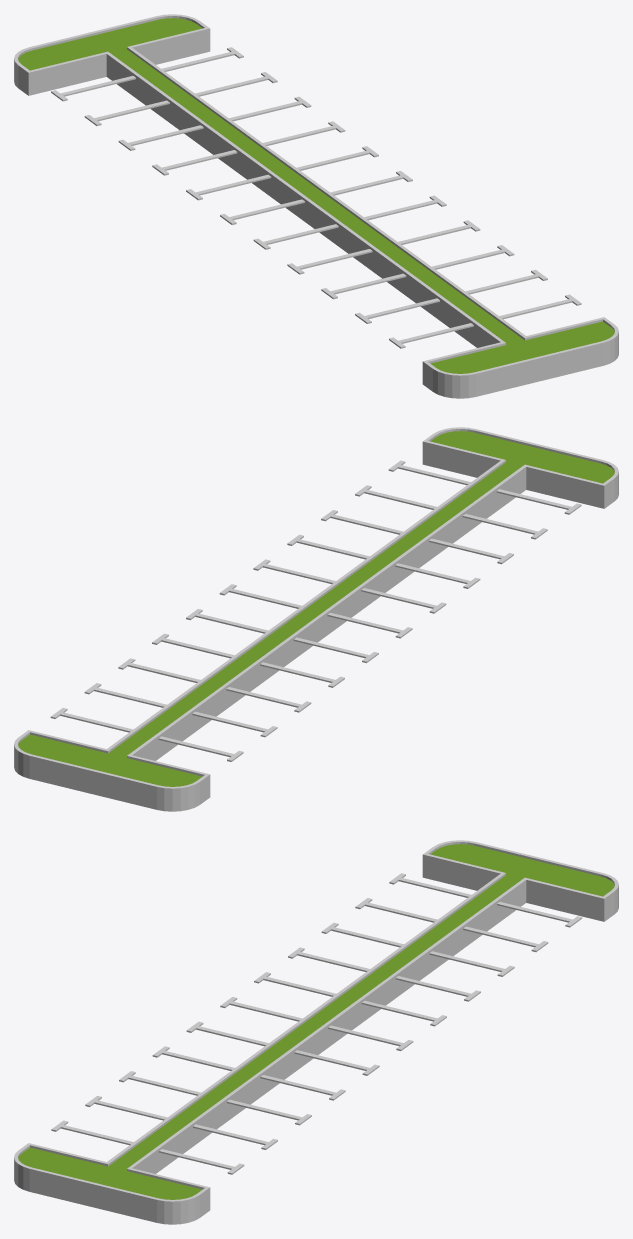
The model's file is 26 Car_parking.fbx.
3 renders of one model, top to bottom at view 1: azimuth 30°, elevation 25°; view 2: azimuth 150°, elevation 25°; view 3: azimuth 330°, elevation 25°, orthographic.
Parts seen in each view (by area): view 1: Car_parking; view 2: Car_parking; view 3: Car_parking.
Boxes of the visible parts, x1,y1,x2,y2 form: Car_parking: (14,14,618,398); Car_parking: (14,427,618,811); Car_parking: (14,840,618,1224).
Bounding box in the file's own units: 164 × 20 × 700.
